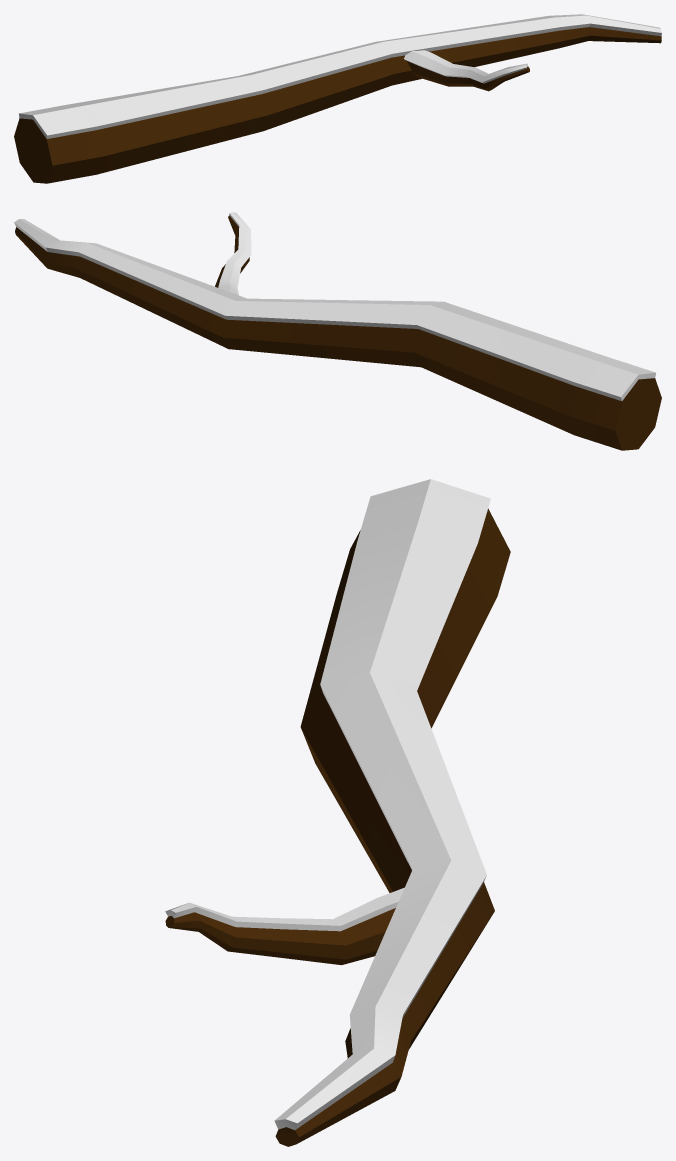
Rendered from Dead_branch.fbx.
3 views of the same model, one above another, from view 1: azimuth 30°, elevation 25°; view 2: azimuth 150°, elevation 25°; view 3: azimuth 270°, elevation 25° (orthographic). The views are drawn at different scales.
Parts seen in each view (by area): view 1: Dead_branch; view 2: Dead_branch; view 3: Dead_branch.
Part boxes in pixels (x1=…): Dead_branch: x1=14, y1=14, x2=661, y2=183; Dead_branch: x1=14, y1=212, x2=661, y2=450; Dead_branch: x1=165, y1=479, x2=510, y2=1146.
Size of the model in its own units: 411 by 45.63 by 103.
